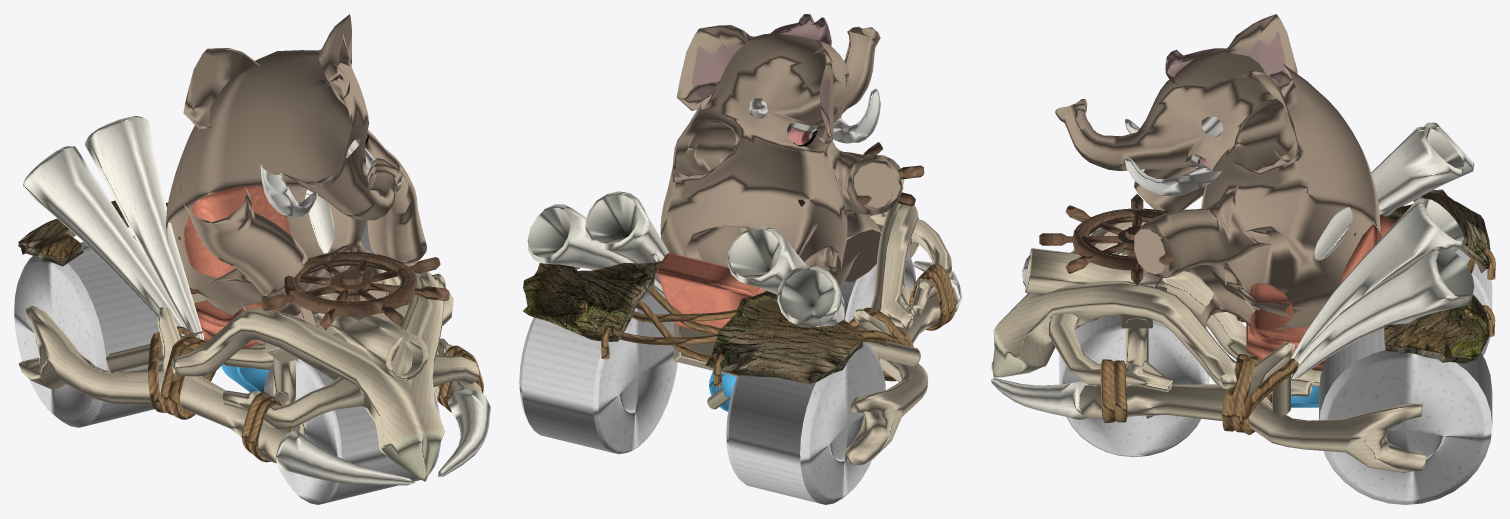
File: kart.glb
The picture shows the model from 3 angles, left to right: view 1: azimuth 30°, elevation 25°; view 2: azimuth 150°, elevation 25°; view 3: azimuth 270°, elevation 25°; orthographic projection. The views are drawn at different scales.
Parts seen in each view (by area): view 1: body_3, body_0, wheel-rear-left, body_2, wheel-front-right, body_4, body_5, body_1, body_6; view 2: body_0, body_3, wheel-rear-right, wheel-rear-left, body_1, body_5, body_4, wheel-front-right, body_2, body_6; view 3: body_0, body_3, wheel-rear-right, wheel-front-right, body_1, body_5, body_2, body_4, wheel-rear-left, body_6.
Part boxes in pixels (x1,y1,x2,y2): body_3: (19,116,490,485); body_0: (105,14,445,435); wheel-rear-left: (14,235,162,427); body_2: (261,251,449,329); wheel-front-right: (264,359,440,504); body_4: (165,185,290,348); body_5: (127,226,483,462); body_1: (18,200,180,260); body_6: (20,218,128,266); body_0: (660,14,920,411); body_3: (527,155,962,465); wheel-rear-right: (519,292,677,454); wheel-rear-left: (726,342,885,504); body_1: (523,261,864,383); body_5: (601,264,955,387); body_4: (657,253,766,334); wheel-front-right: (839,253,916,322); body_2: (798,142,924,206); body_6: (574,266,863,382); body_0: (1022,14,1380,418); body_3: (991,122,1474,472); wheel-rear-right: (1319,317,1492,504); wheel-front-right: (1059,286,1209,457); body_1: (1353,189,1490,360); body_5: (1100,248,1495,434); body_2: (1039,194,1174,284); body_4: (1246,214,1396,370); wheel-rear-left: (1455,249,1492,355); body_6: (1385,196,1486,363).
Size of the model in its own units: 1.02 by 1.06 by 1.25.
Materials: 6 (6 with a texture image).
